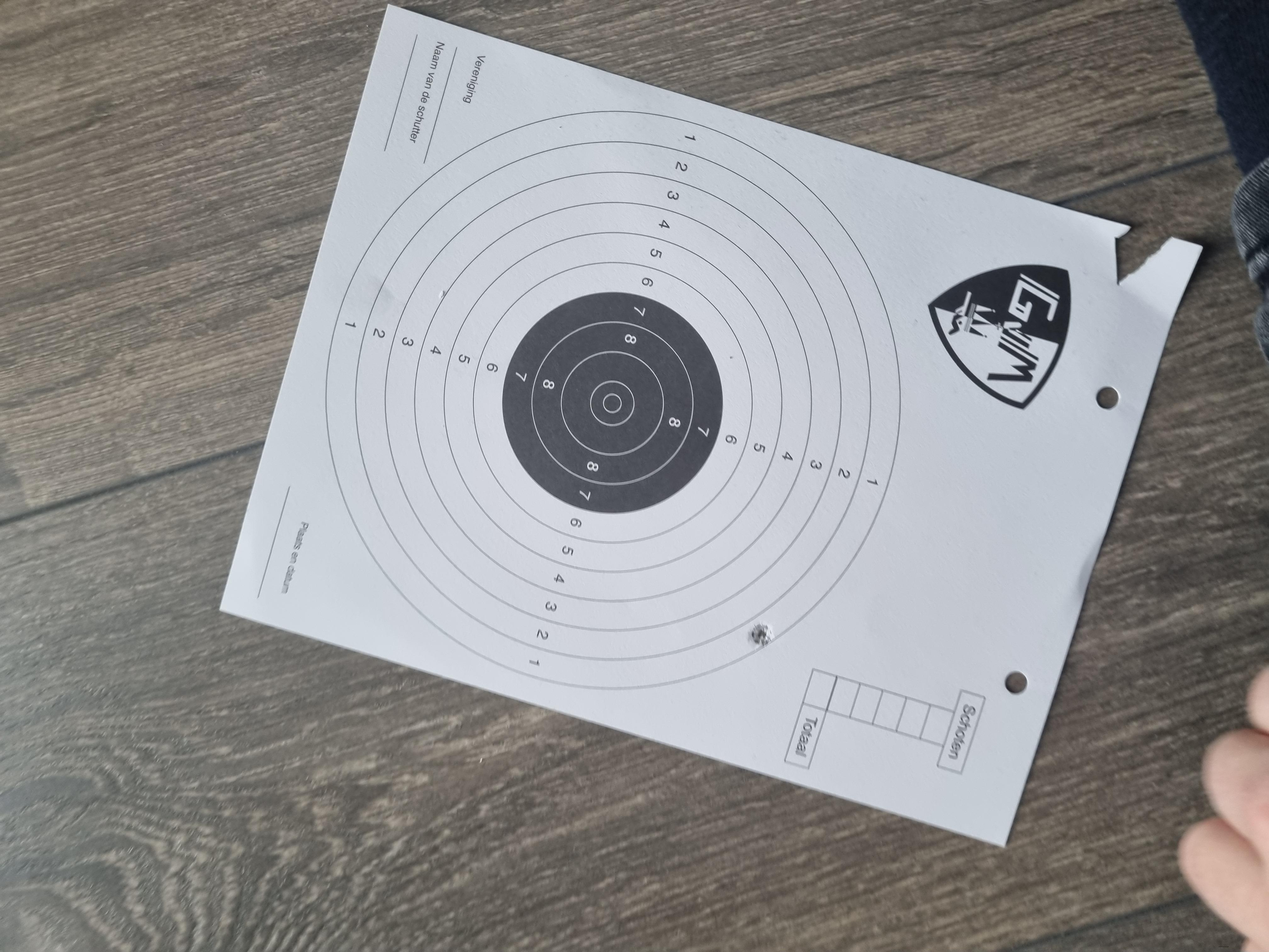hole: (407, 562, 440, 581)
